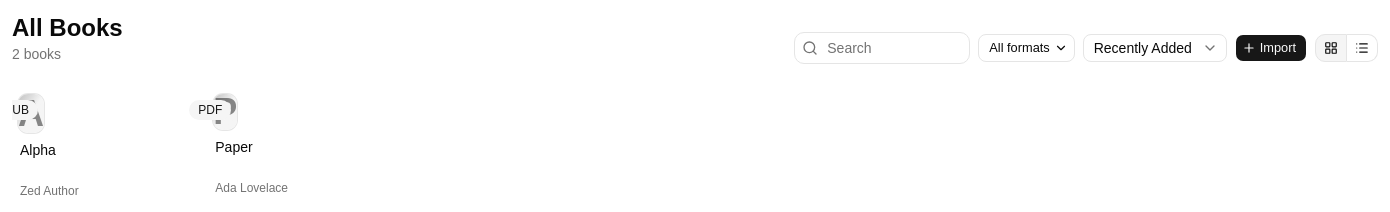
it: LibraryView header › keeps the format menu open while several formats are ticked
Click the button with test id "library-format-filter" at (1027, 48), box [978,34,1075,62]
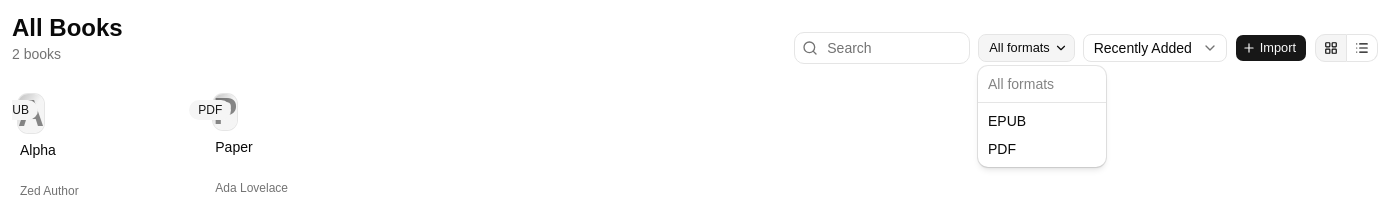
Click the menu item with test id "format-filter-epub" at (1007, 121), box [988,113,1026,129]
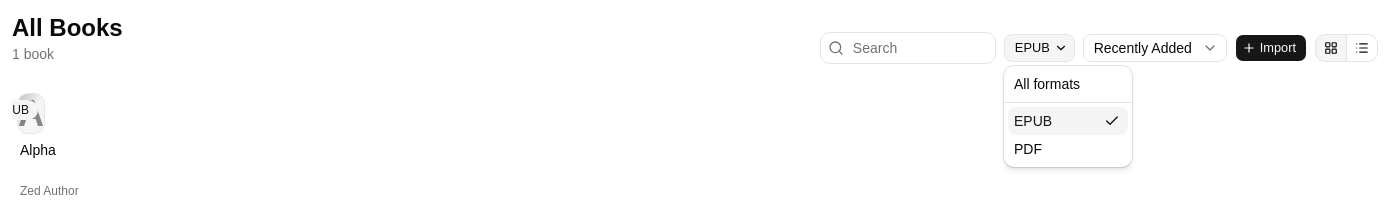
Now the button with test id "library-format-filter" reads "EPUB", box [1004,34,1075,62]
Click the menu item with test id "format-filter-pdf" at (1028, 149), box [1014,141,1042,157]
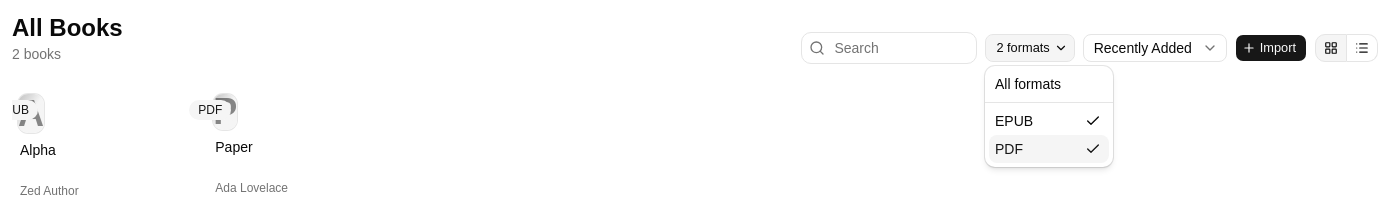
Now the button with test id "library-format-filter" reads "2 formats", box [985,34,1075,62]
Click the menu item with test id "format-filter-all" at (1028, 84), box [995,76,1061,92]
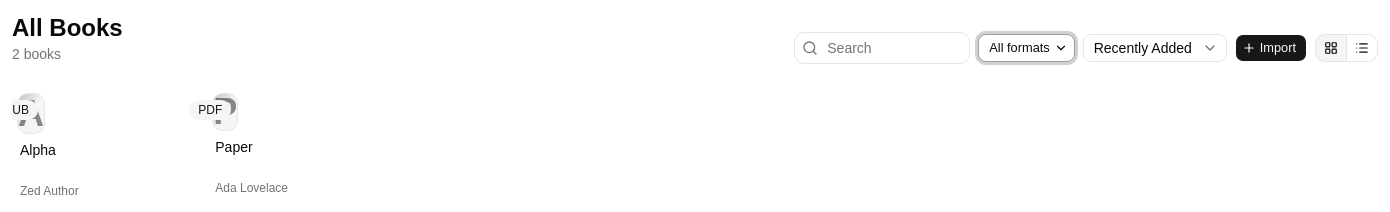
Now the button with test id "library-format-filter" reads "All formats", box [978,34,1075,62]
